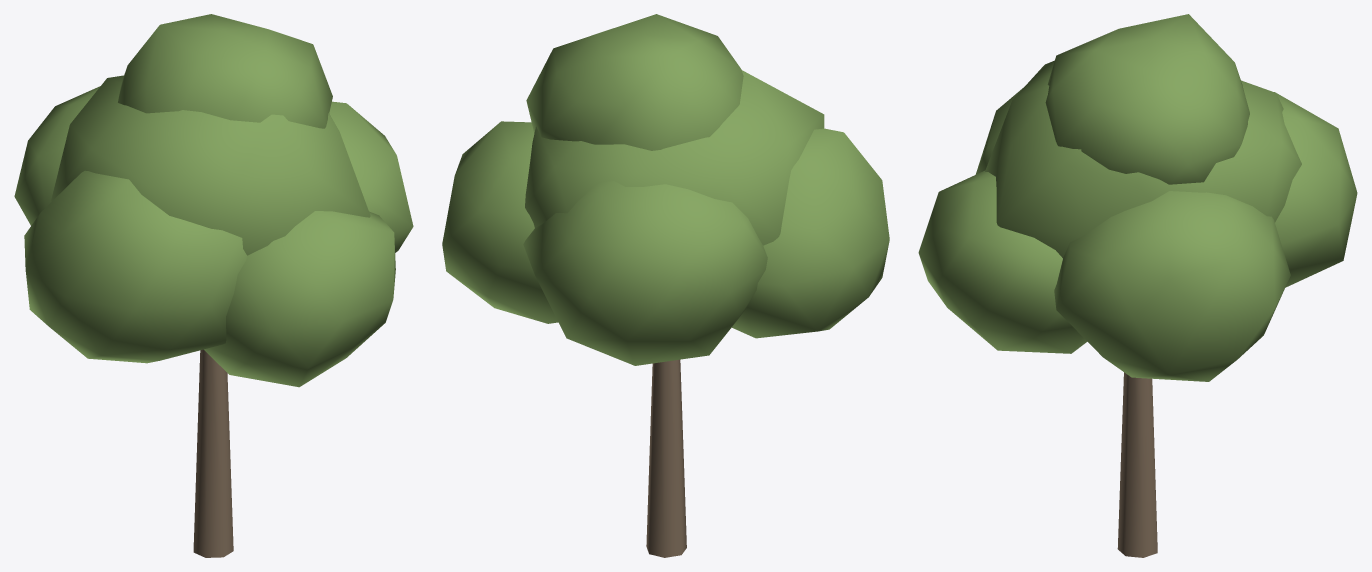
Rendered from tree_broadleaf.glb.
3 renders of one model, left to right at view 1: azimuth 30°, elevation 25°; view 2: azimuth 150°, elevation 25°; view 3: azimuth 270°, elevation 25°, orthographic.
Visible parts, largest first — view 1: tree_broadleaf; view 2: tree_broadleaf; view 3: tree_broadleaf.
Part boxes in pixels (<box>): tree_broadleaf: <box>14,14,413,557</box>; tree_broadleaf: <box>442,14,889,557</box>; tree_broadleaf: <box>918,14,1357,557</box>.
Size of what is drawn, in the model's own units: 7.1 by 9.33 by 7.12.
